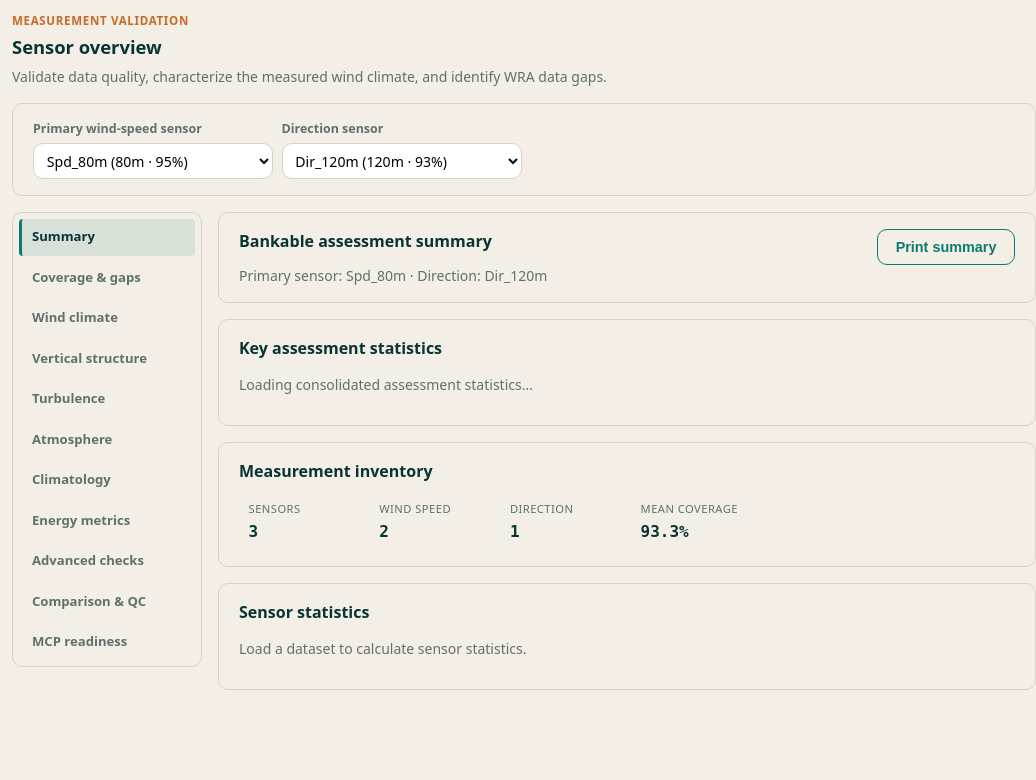
Sensor Overview › renders the P6 comparison and MCP readiness states
The width and height of the screenshot is (1036, 780).
Click the button "Comparison & QC": (107, 601) [19,583,195,620]
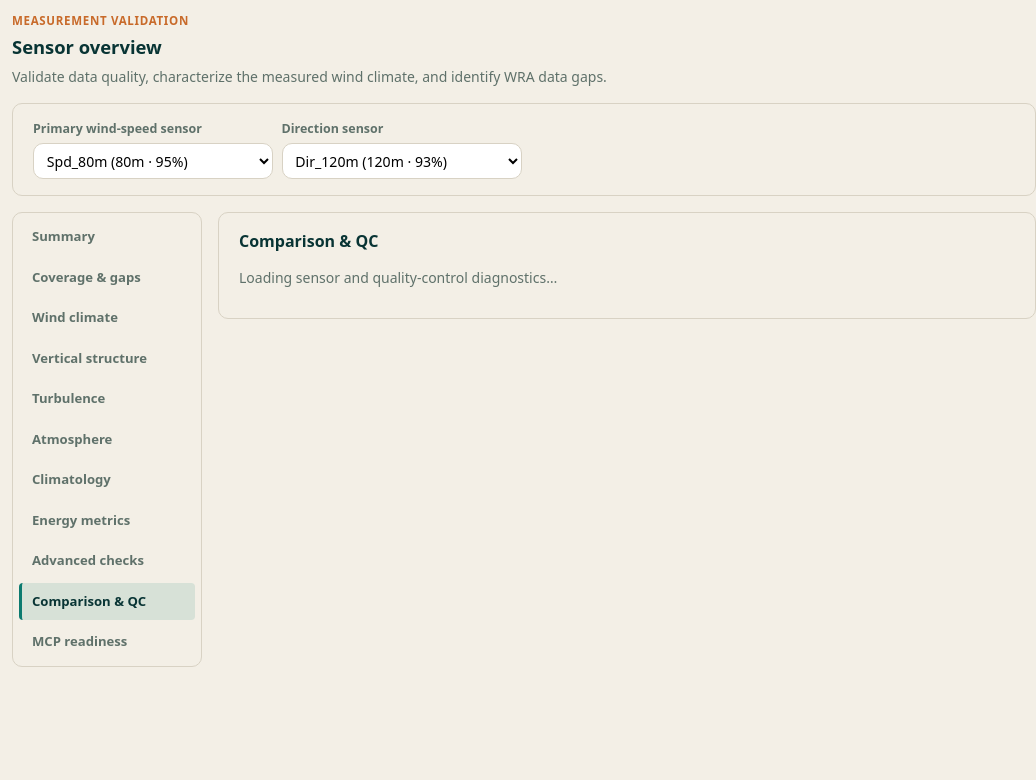
Check: the heading "Comparison & QC" is shown, box [239,230,378,252]
Click the button "MCP readiness": (107, 642) [19,623,195,661]
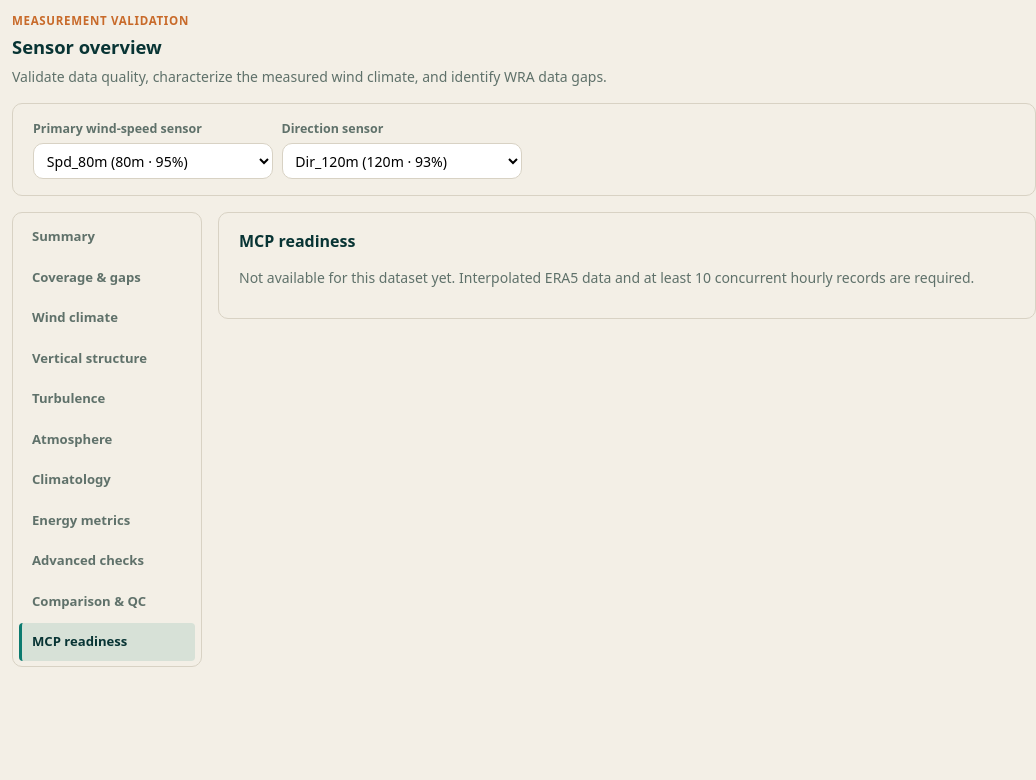
Check: the heading "MCP readiness" is shown, box [239,230,355,252]
